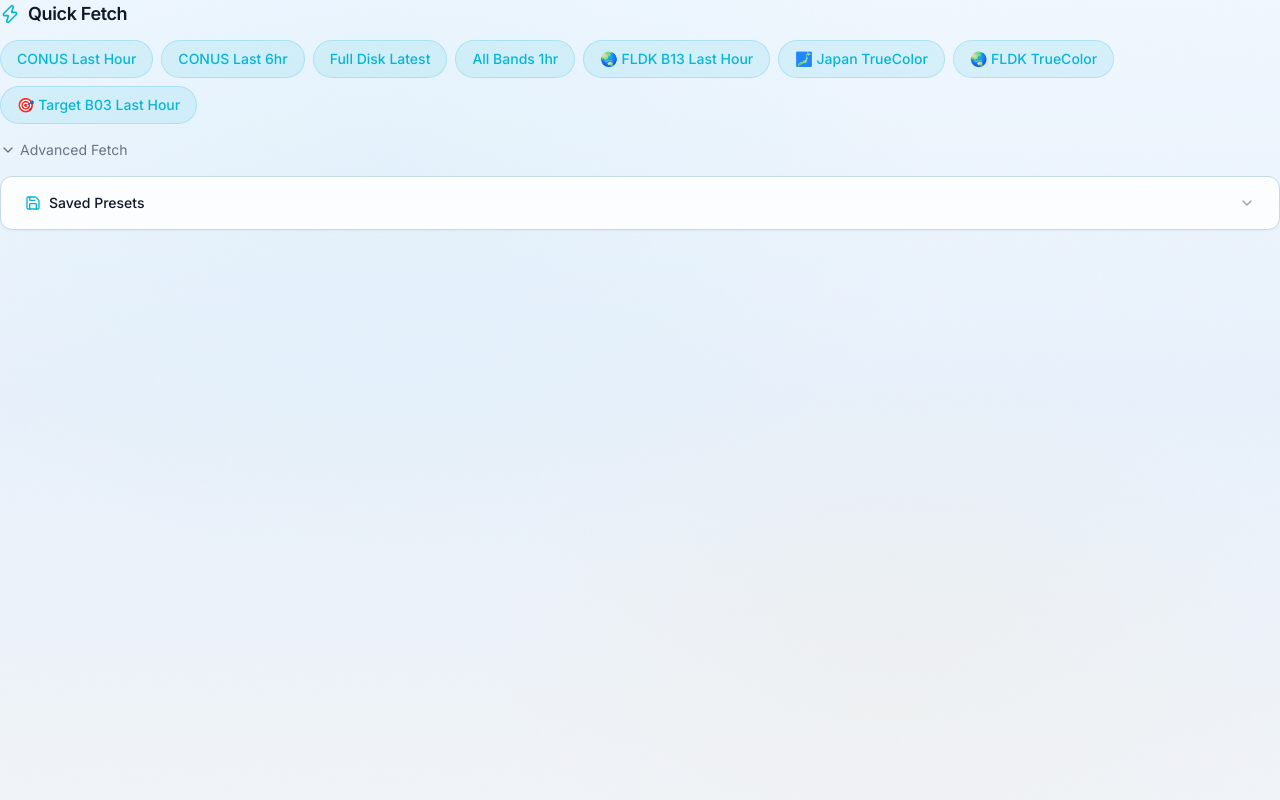
Scenario: FetchFlowComplete › step 1: image type toggle works
Click the button with test id "advanced-fetch-toggle" at (64, 150), box [0,140,128,160]
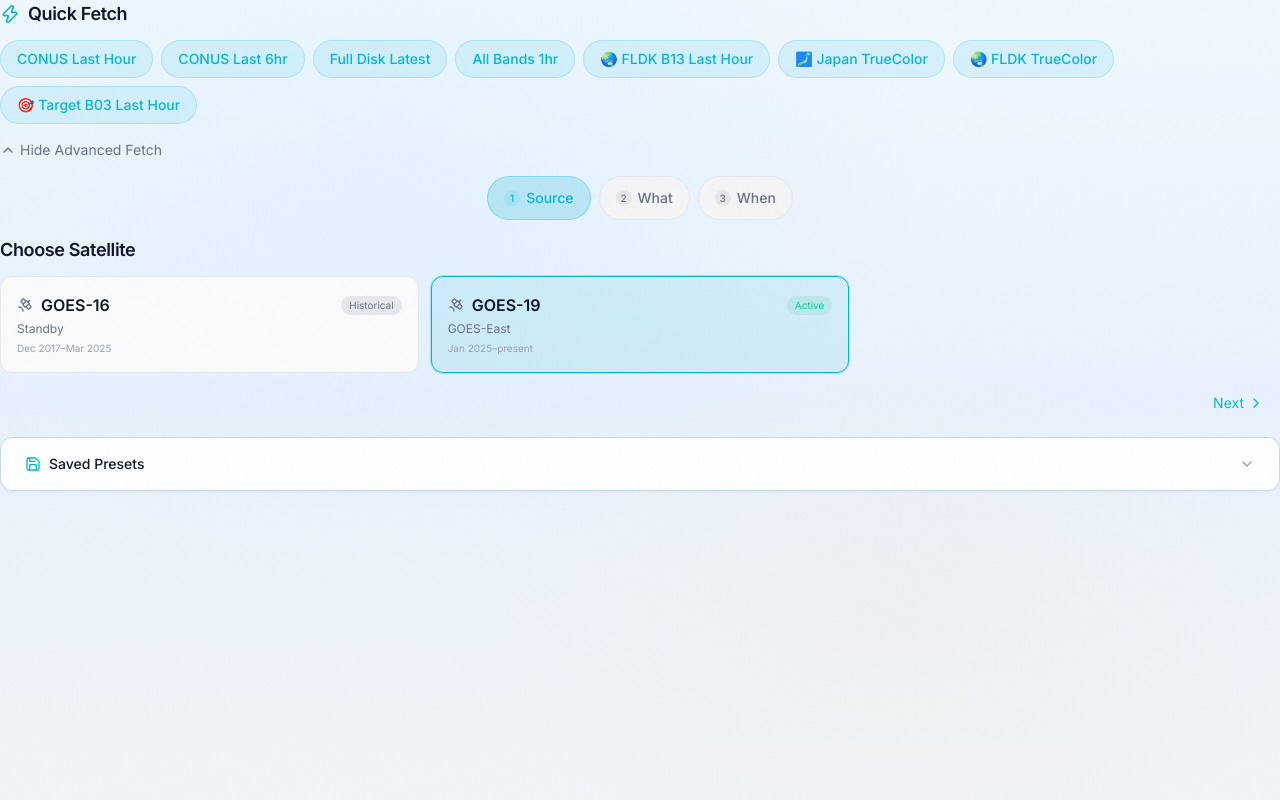
Now the heading "Choose Satellite" is shown, box [0,239,135,260]
Click the button "Next" at (1239, 403), box [1197,385,1279,421]
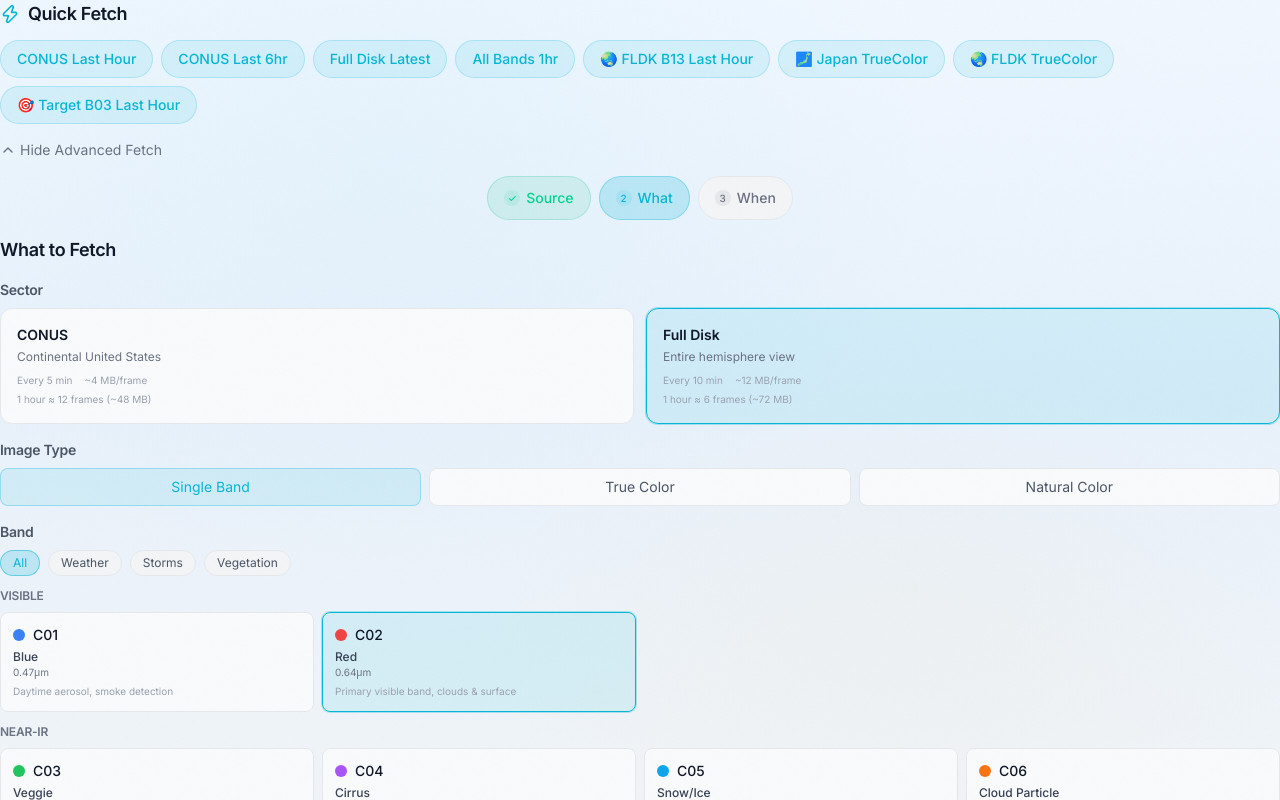
Now the heading "Image Type" is shown, box [0,441,76,458]
Click the button "True Color" at (640, 487), box [429,468,851,506]
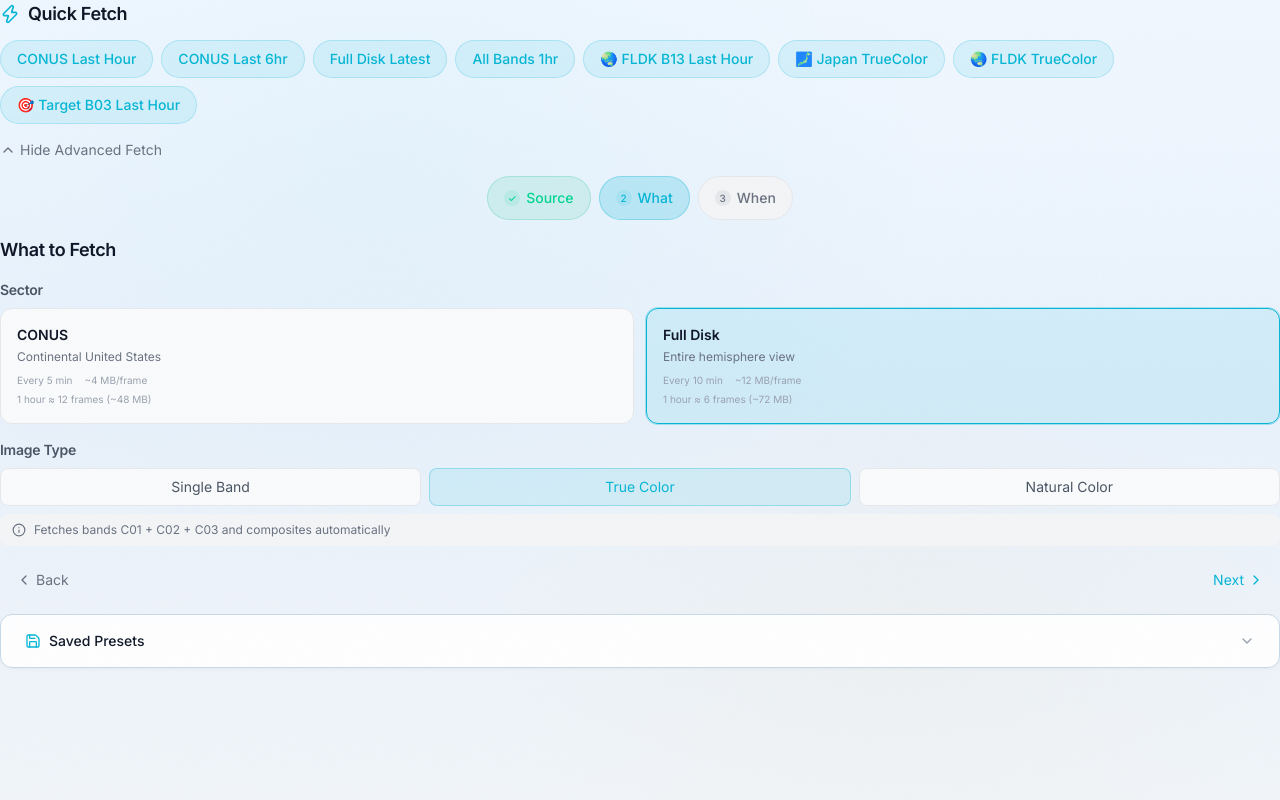
Now the text "Fetches bands C01 + C02 + C03 and composites automatically" is shown, box [0,514,1279,546]
